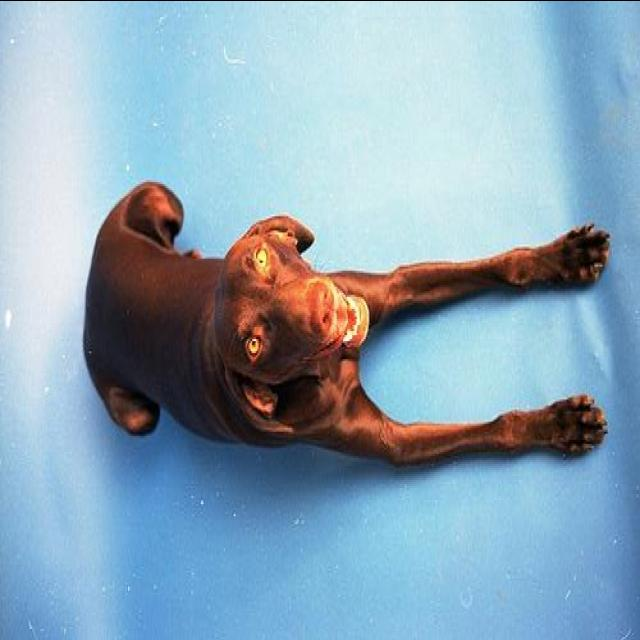vizsla: (80, 173, 612, 467)
